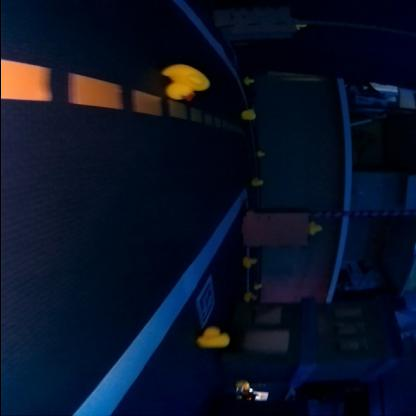Duckie: (162, 65, 209, 97), (198, 327, 228, 348), (310, 221, 322, 232), (242, 110, 256, 119), (244, 256, 256, 264), (244, 292, 254, 301), (252, 178, 264, 184), (245, 77, 252, 85), (298, 23, 306, 30), (254, 282, 262, 288), (242, 381, 249, 387), (257, 151, 264, 156)
QR code: (195, 279, 215, 327)
